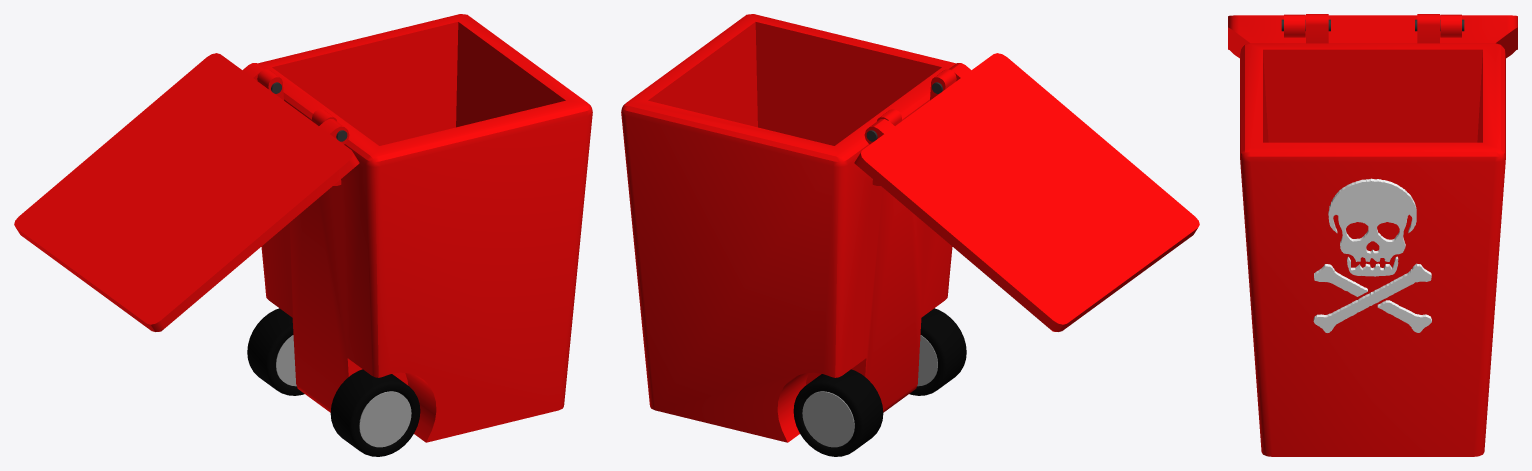
The model's file is Hazard_Bin.glb.
3 renders of one model, left to right at view 1: azimuth 30°, elevation 25°; view 2: azimuth 150°, elevation 25°; view 3: azimuth 270°, elevation 25°, orthographic. The views are drawn at different scales.
Visible parts, largest first — view 1: Cube006, Cube007, Cylinder012, Cylinder013; view 2: Cube006, Cube007, Cylinder012, Cylinder013; view 3: Cube006, Plane, Cube007.
Part boxes in pixels (left/top/right/bottom): Cube006: left=257, top=14, right=592, bottom=442; Cube007: left=14, top=53, right=359, bottom=331; Cylinder012: left=247, top=308, right=420, bottom=456; Cylinder013: left=276, top=335, right=411, bottom=447; Cube006: left=621, top=14, right=956, bottom=442; Cube007: left=854, top=53, right=1199, bottom=331; Cylinder012: left=793, top=308, right=966, bottom=456; Cylinder013: left=802, top=335, right=937, bottom=447; Cube006: left=1240, top=14, right=1505, bottom=456; Plane: left=1313, top=178, right=1431, bottom=332; Cube007: left=1228, top=14, right=1517, bottom=58.
Bounding box in the file's own units: 4.8 × 3.38 × 2.6.
